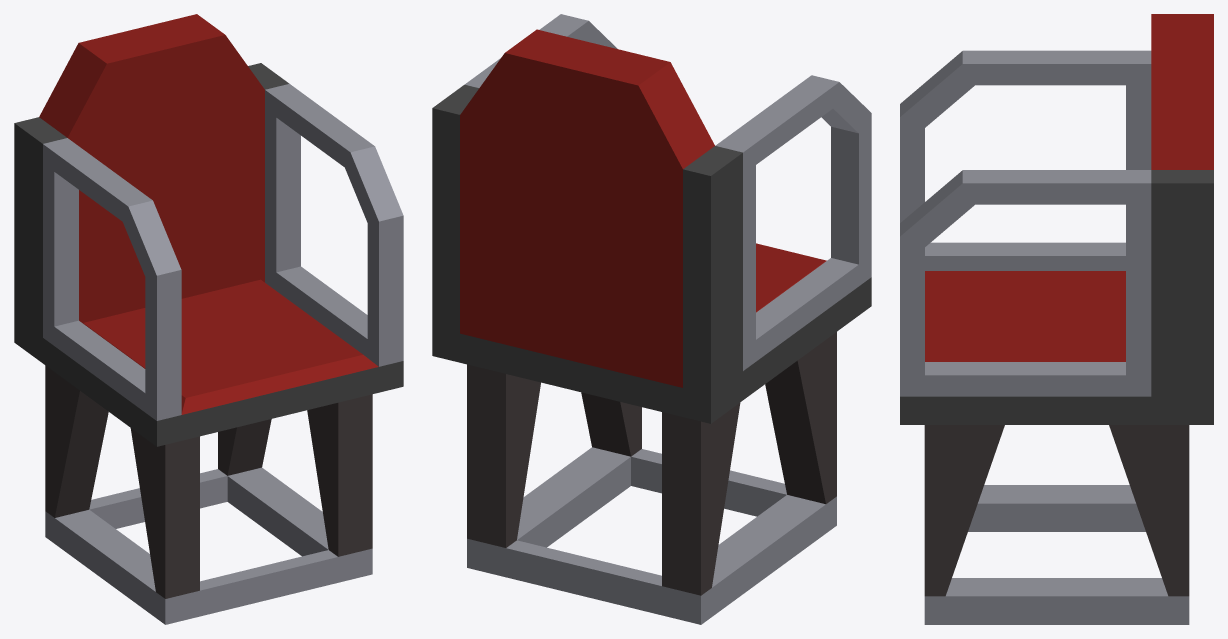
Rendered from Chair.fbx.
3 views of the same model, side by side, from view 1: azimuth 30°, elevation 25°; view 2: azimuth 150°, elevation 25°; view 3: azimuth 270°, elevation 25° (orthographic). The views are drawn at different scales.
Parts seen in each view (by area): view 1: Chair; view 2: Chair; view 3: Chair.
Boxes of the visible parts, x1,y1,x2,y2 form: Chair: [14, 14, 403, 624]; Chair: [432, 14, 871, 624]; Chair: [900, 14, 1213, 624].
Bounding box in the file's own units: 400 × 736 × 400.
